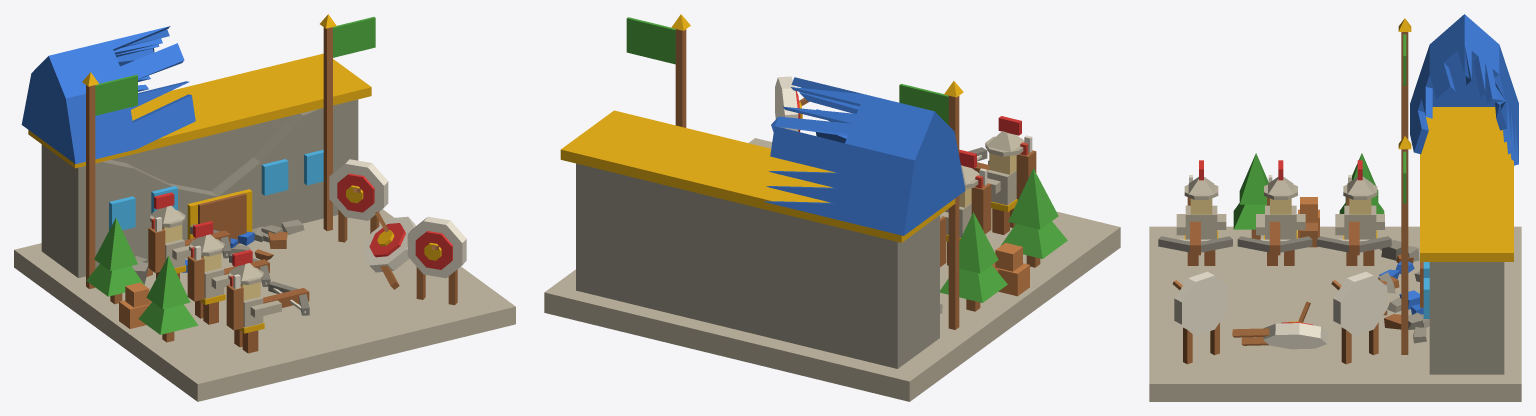
Rendered from archery_range_t3_v3_dmg1.glb.
The picture shows the model from 3 angles, left to right: view 1: azimuth 30°, elevation 25°; view 2: azimuth 150°, elevation 25°; view 3: azimuth 270°, elevation 25°; orthographic projection. The views are drawn at different scales.
Parts seen in each view (by area): view 1: archery_range_t3_v3_dmg1; view 2: archery_range_t3_v3_dmg1; view 3: archery_range_t3_v3_dmg1.
Boxes of the visible parts, x1,y1,x2,y2 form: archery_range_t3_v3_dmg1: [14, 14, 515, 401]; archery_range_t3_v3_dmg1: [544, 14, 1120, 401]; archery_range_t3_v3_dmg1: [1149, 14, 1521, 401].
Size of the model in its own units: 0.75 by 0.525 by 0.75.
Materials: 1 (1 with a texture image).
